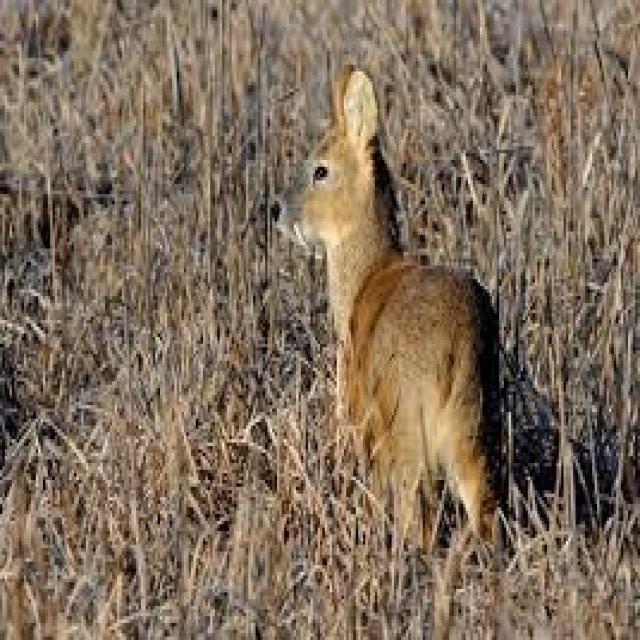elk: (261, 61, 537, 590)
